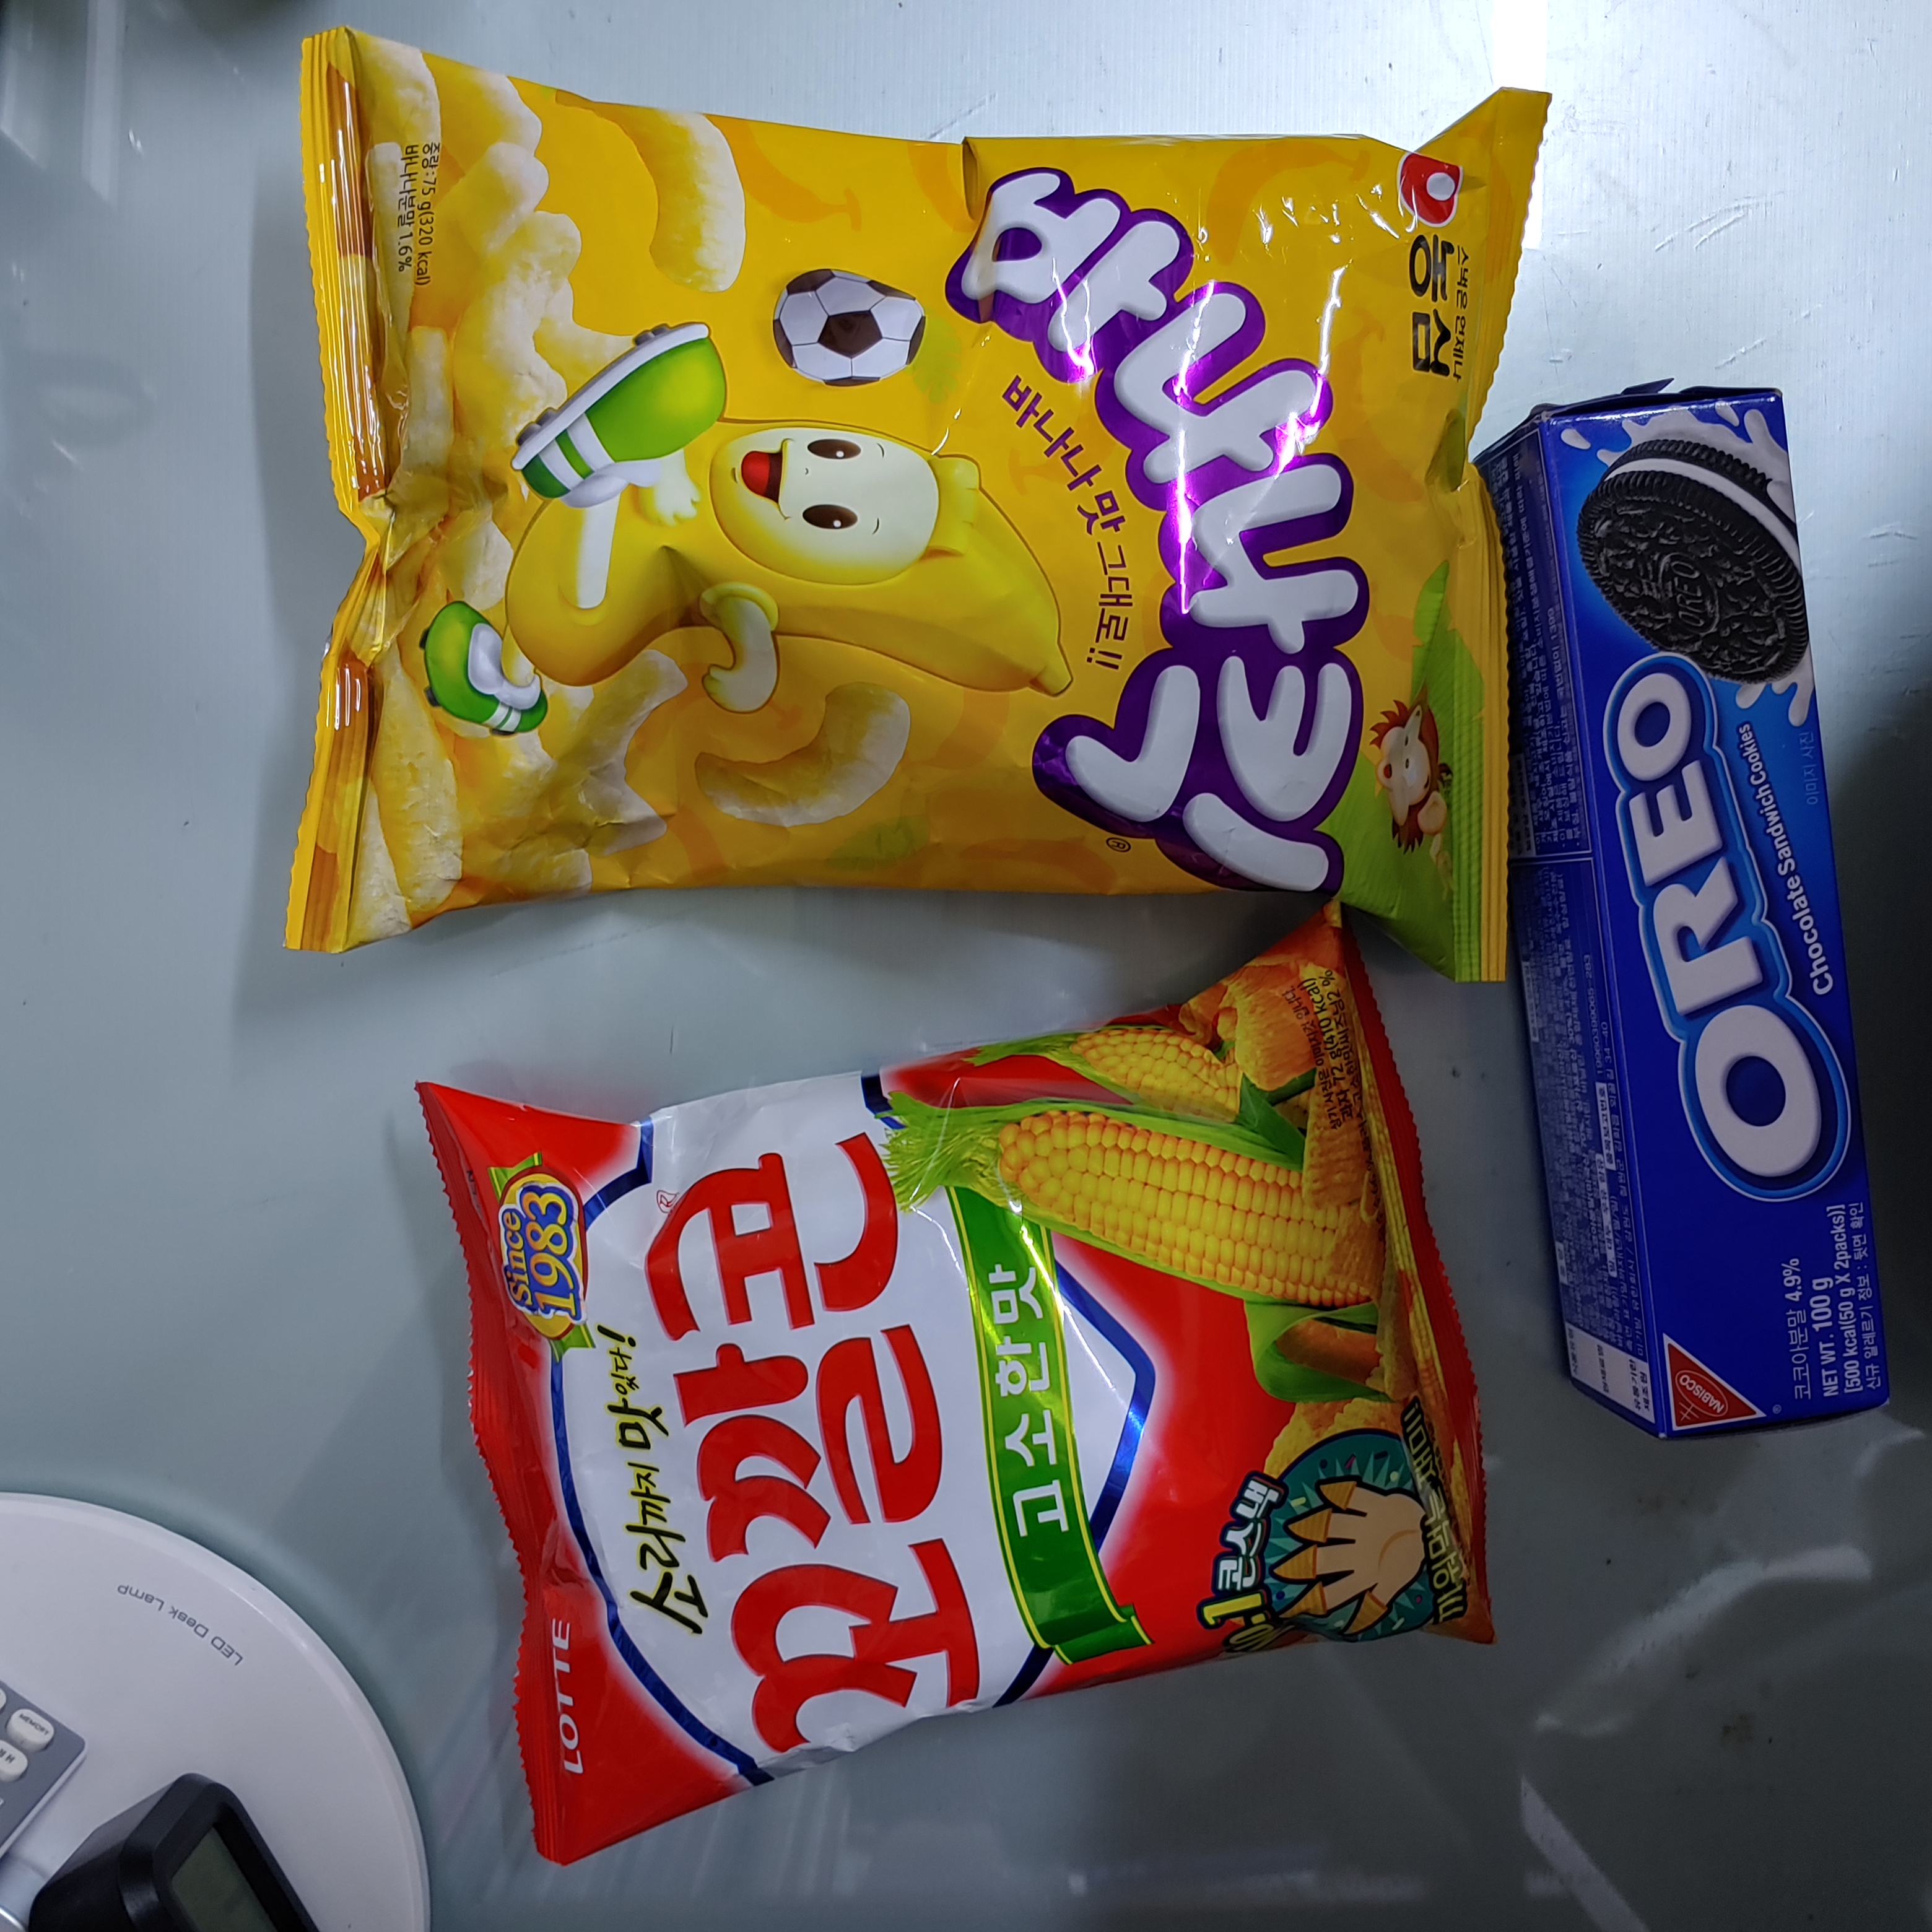banana: (216, 9, 1672, 1058)
ggoggalcon: (310, 901, 1523, 1932)
oreo: (1424, 324, 1932, 1461)
